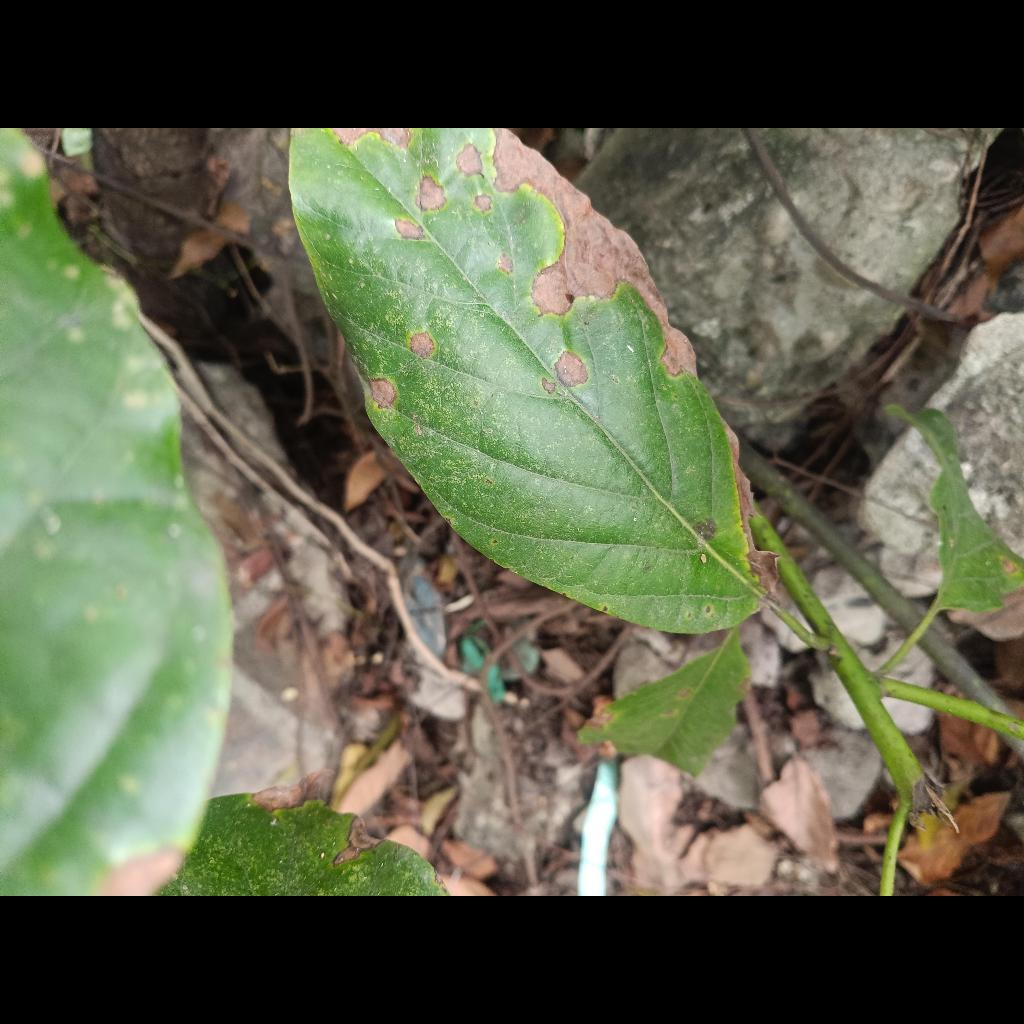Anthracnose: (291, 128, 761, 631)
